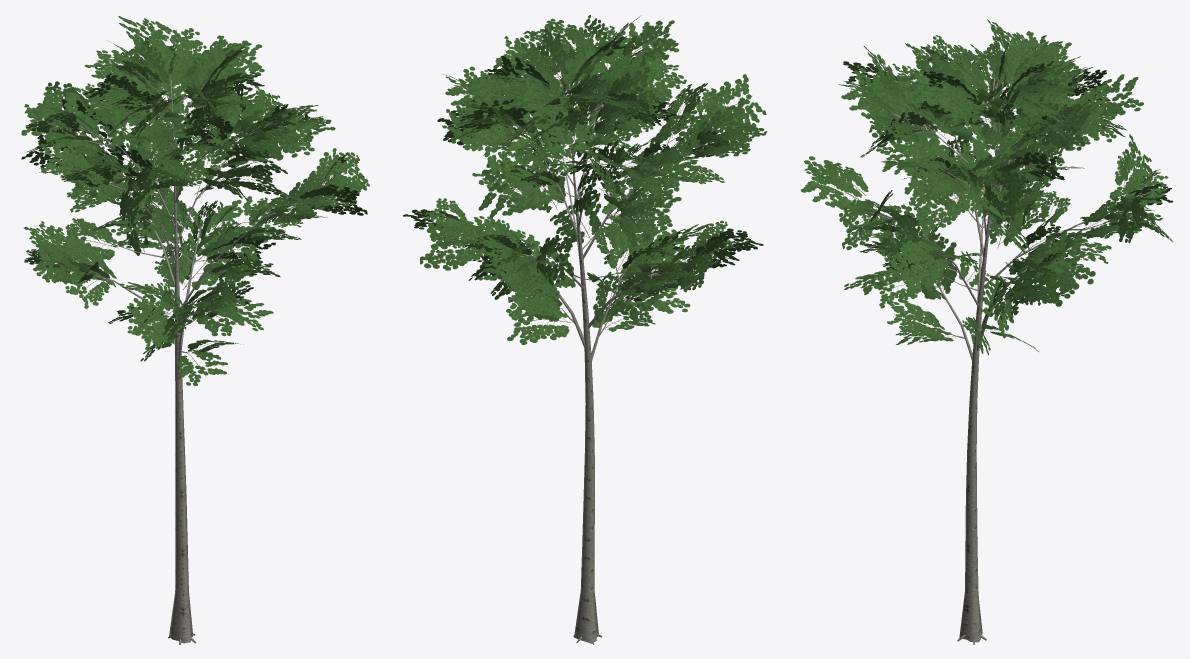
The model's file is QuakingAspen.fbx.
3 views of the same model, side by side, from view 1: azimuth 30°, elevation 25°; view 2: azimuth 150°, elevation 25°; view 3: azimuth 270°, elevation 25° (orthographic). The views are drawn at different scales.
Visible parts, largest first — view 1: Foliage, Bark; view 2: Foliage, Bark; view 3: Foliage, Bark.
Part boxes in pixels (x1=…): Foliage: x1=21, y1=16, x2=369, y2=386; Bark: x1=72, y1=79, x2=316, y2=644; Foliage: x1=403, y1=14, x2=767, y2=344; Bark: x1=491, y1=81, x2=698, y2=644; Foliage: x1=800, y1=19, x2=1173, y2=355; Bark: x1=848, y1=76, x2=1124, y2=644.
Size of the model in its own units: 11.98 by 21.17 by 12.32.
